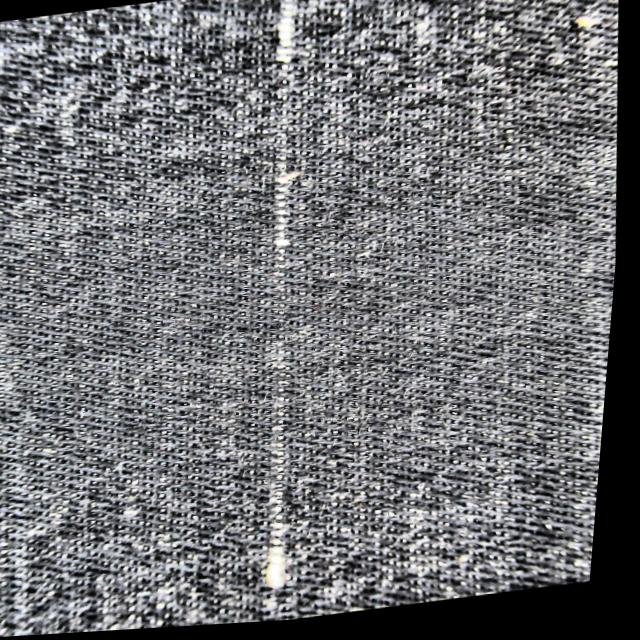Hole: (238, 151, 342, 280), (234, 0, 341, 84), (254, 529, 321, 596)
